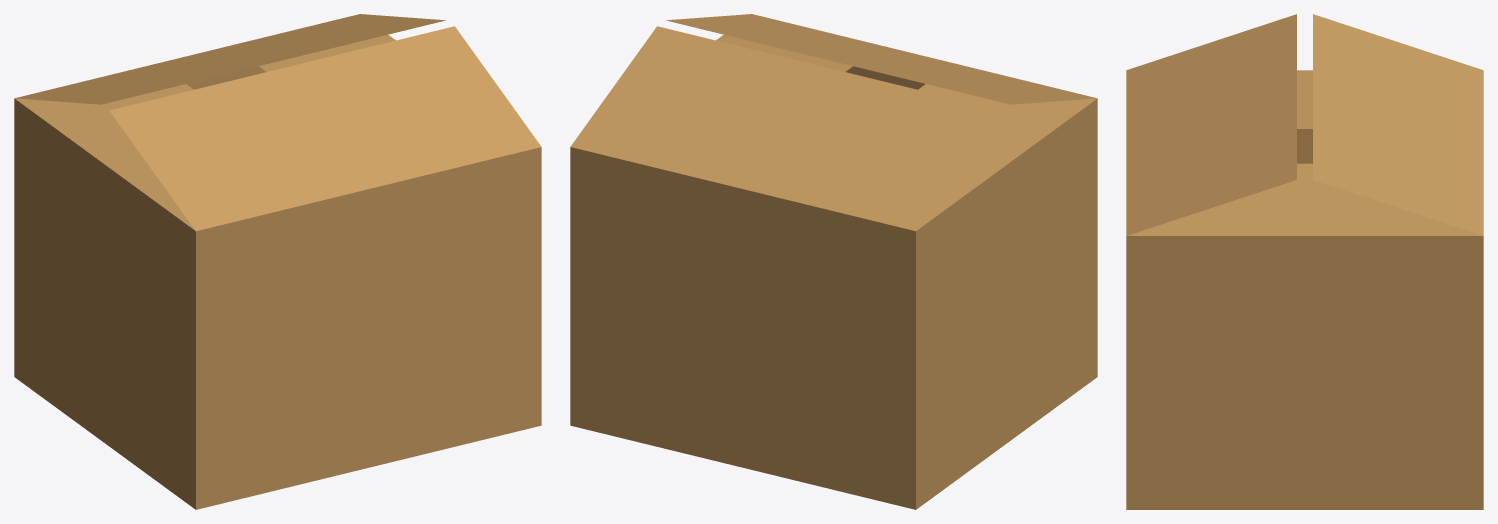
File: Cardboard_Box.fbx
The picture shows the model from 3 angles, left to right: view 1: azimuth 30°, elevation 25°; view 2: azimuth 150°, elevation 25°; view 3: azimuth 270°, elevation 25°; orthographic projection.
Parts seen in each view (by area): view 1: Cube; view 2: Cube; view 3: Cube.
Part boxes in pixels (x1,y1,x2,y2): Cube: (14,14,541,509); Cube: (570,14,1097,509); Cube: (1126,14,1483,509).
Bounding box in the file's own units: 260 × 241 × 236.
